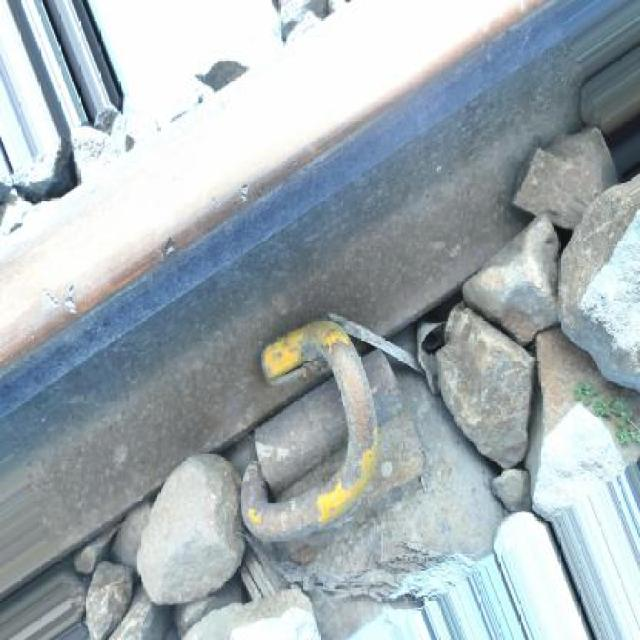non-defective: (66, 59, 577, 426)
